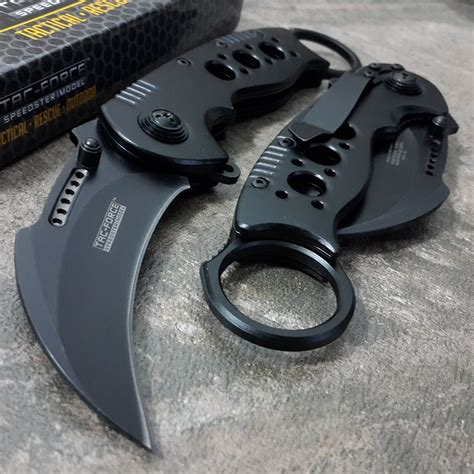knife: (15, 24, 362, 447), (193, 61, 460, 354)
